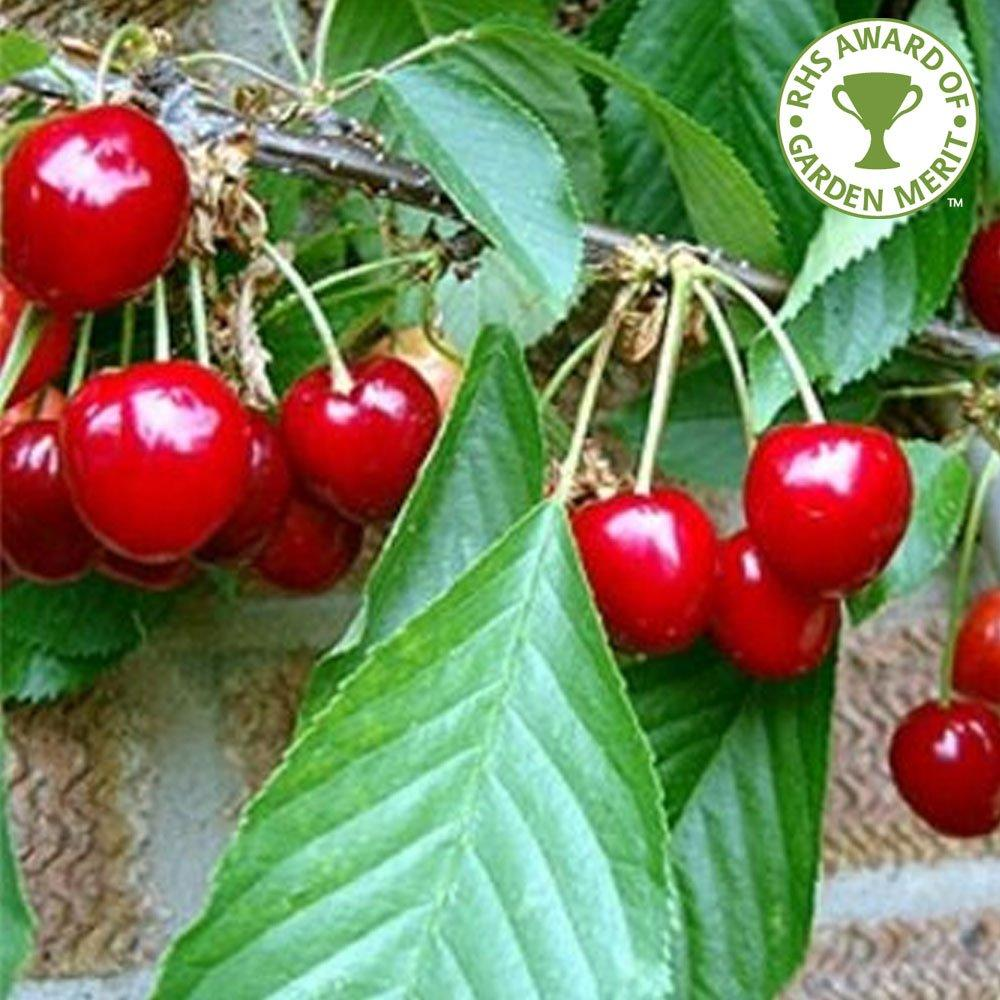Cherry leaf: (161, 503, 681, 1000), (363, 64, 613, 336)
